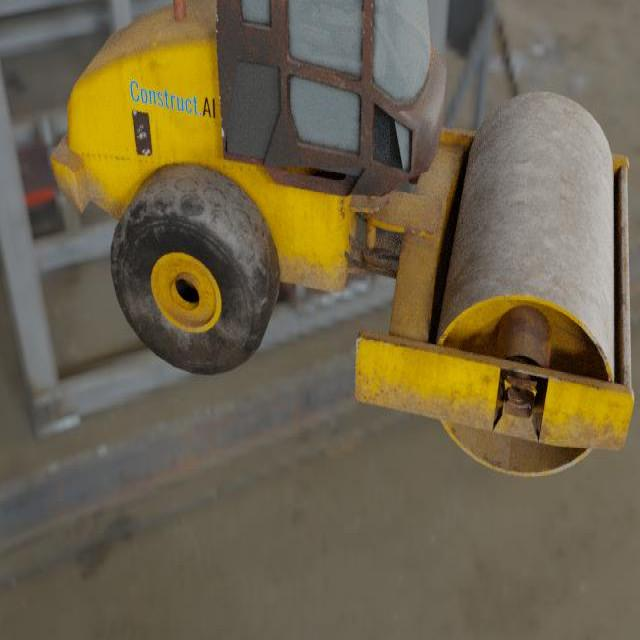Roller: (50, 0, 634, 477)
